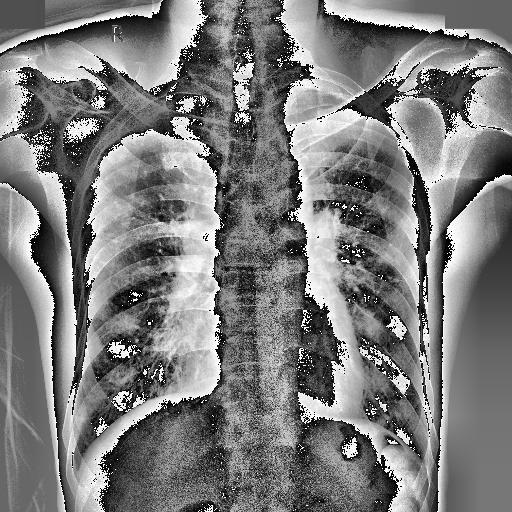11- Pleural thickening: (287, 75, 395, 134), (275, 78, 393, 130), (96, 84, 186, 152), (104, 82, 209, 140), (290, 64, 386, 125), (104, 82, 188, 150)
